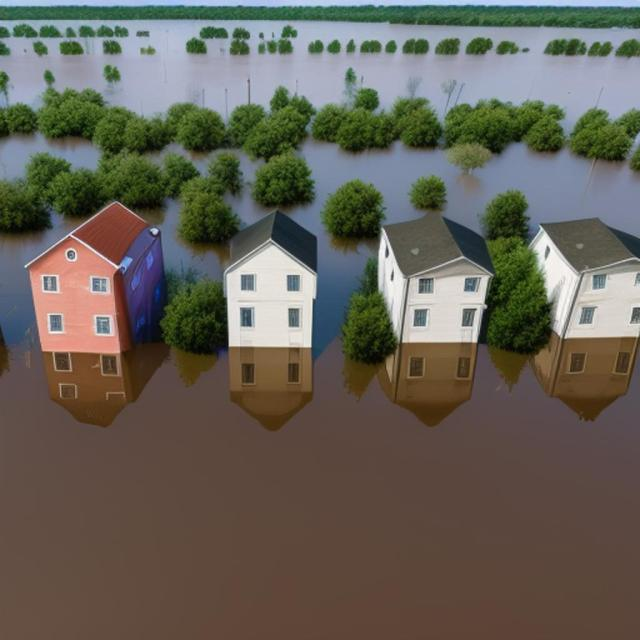flood: (0, 336, 640, 640), (284, 138, 640, 358), (0, 20, 640, 131), (0, 212, 81, 365), (140, 200, 227, 280), (0, 131, 99, 178), (148, 143, 212, 172), (232, 150, 263, 183)
house: (17, 195, 169, 351), (372, 210, 502, 342), (533, 212, 640, 340), (224, 216, 324, 346)
